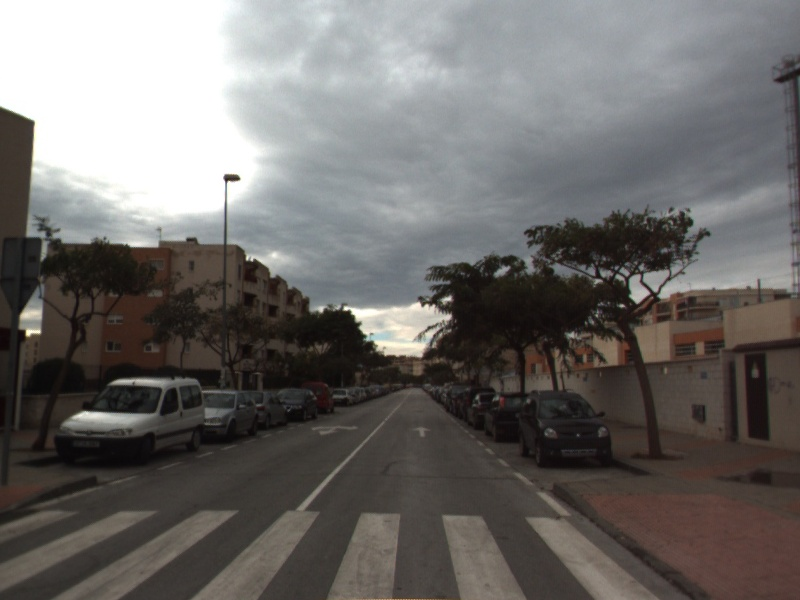STRAIGHT: (410, 424, 434, 439)
